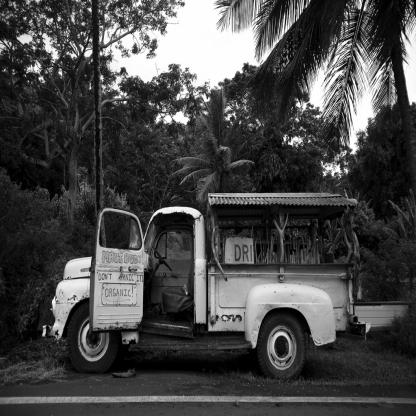Truck: (45, 190, 357, 390)
